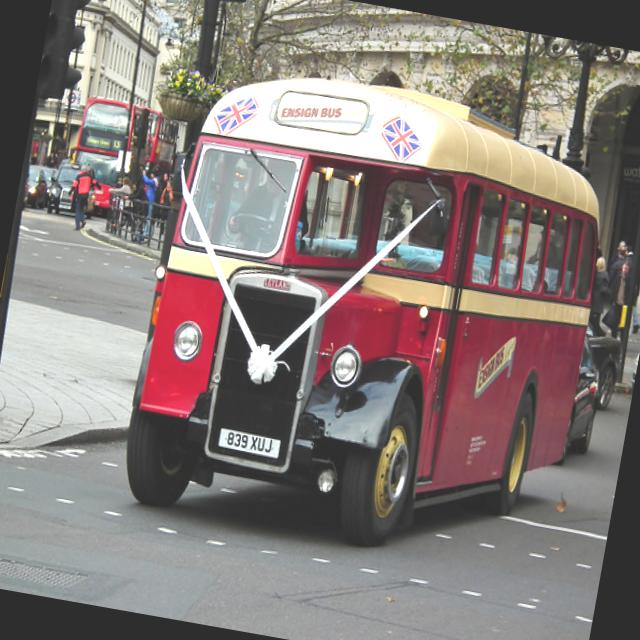Vehicle: (111, 54, 620, 575), (59, 91, 184, 229), (574, 311, 632, 414), (562, 333, 608, 456), (44, 158, 82, 218), (22, 163, 50, 209), (15, 153, 35, 210), (628, 343, 640, 383)
